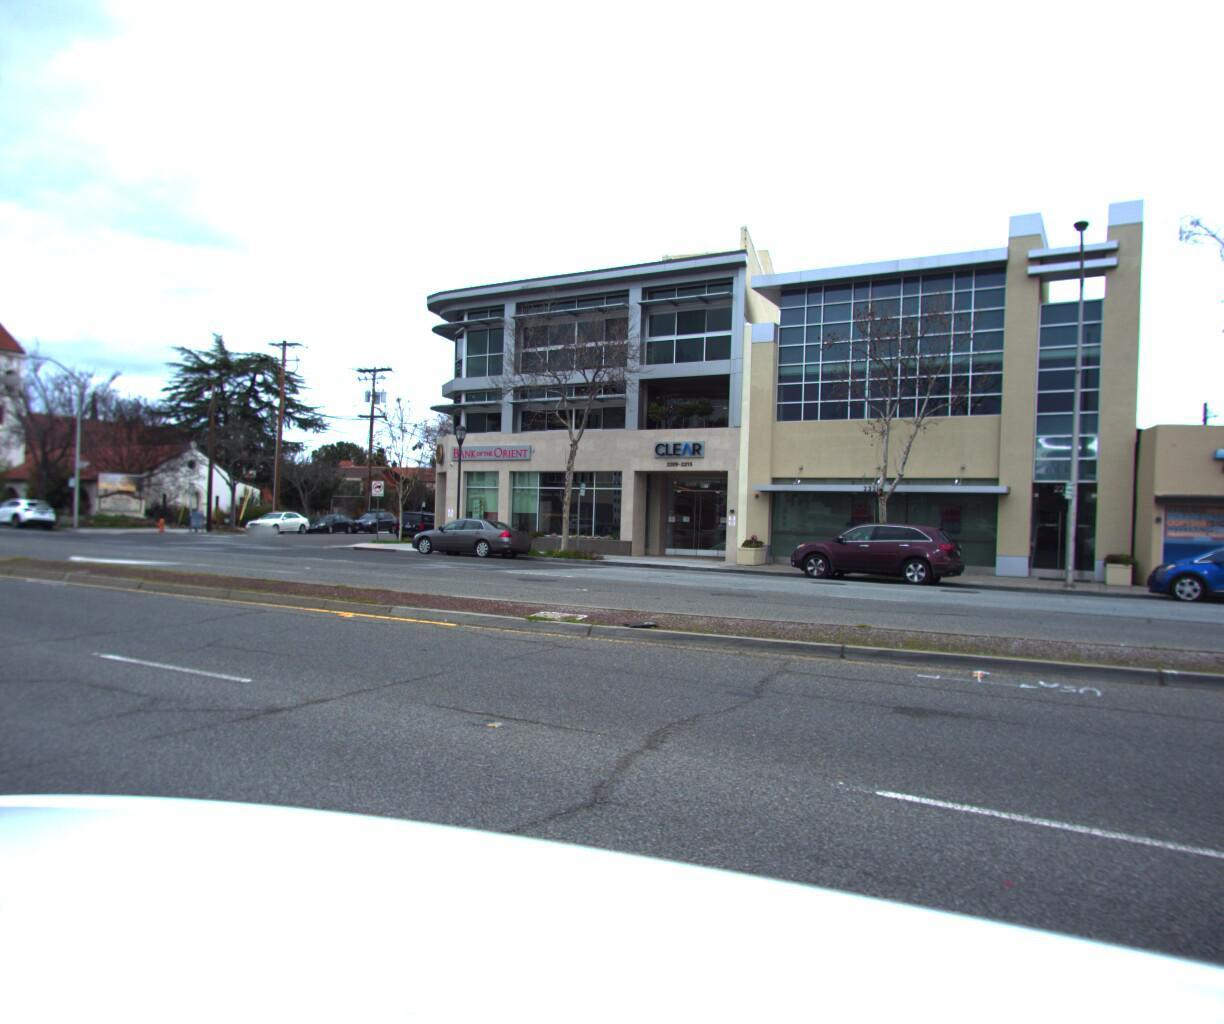car: (770, 513, 972, 586), (1133, 527, 1224, 612), (392, 509, 535, 556), (384, 502, 456, 538), (234, 502, 314, 530), (0, 492, 52, 525), (344, 500, 399, 529), (295, 507, 353, 531), (0, 491, 2, 523)
